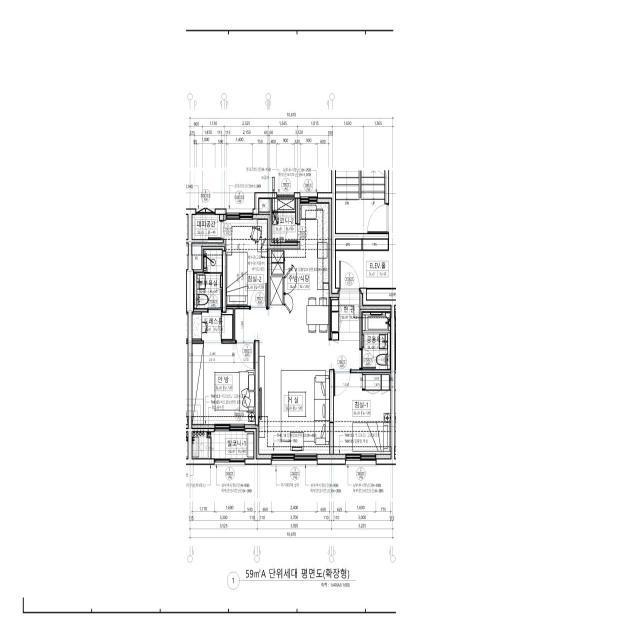space_balconi: (192, 431, 253, 458), (272, 199, 295, 242)
space_bedroom: (192, 344, 255, 428), (334, 373, 391, 459), (224, 215, 270, 306)
space_dressroom: (192, 309, 233, 340)
space_elevator_hall: (336, 251, 396, 288)
space_front: (331, 291, 362, 340)
space_kitchen: (269, 199, 331, 309)
space_living_room: (235, 309, 360, 459)
space_other: (192, 215, 219, 239), (367, 289, 396, 300), (336, 240, 362, 250), (363, 240, 388, 250), (192, 243, 201, 269), (259, 199, 270, 212)
space_staircase: (336, 170, 385, 233)
space_toilet: (194, 249, 222, 309), (362, 312, 391, 369)
